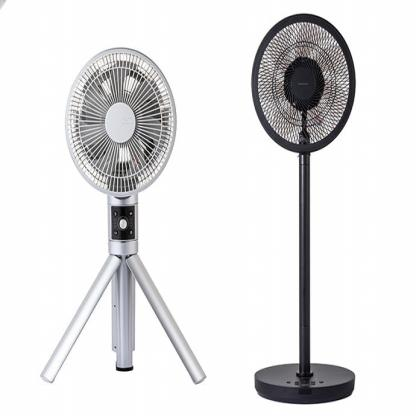fan: (36, 43, 218, 389), (245, 9, 370, 411)
